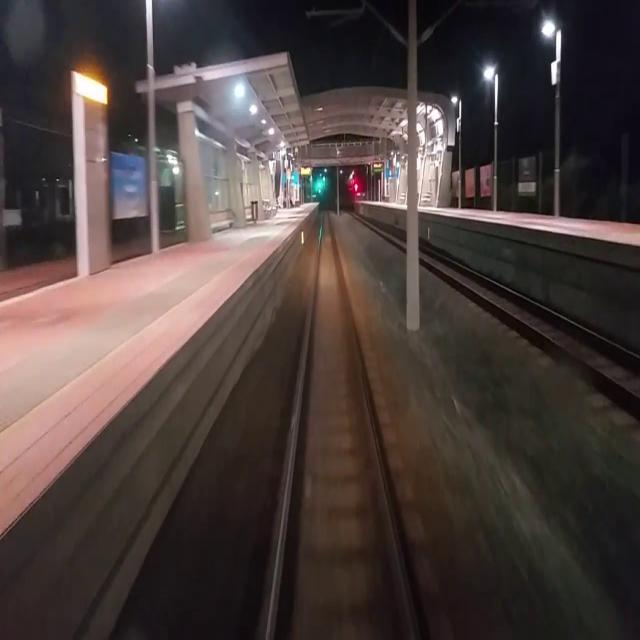rail-track: (278, 209, 403, 575), (418, 244, 640, 395), (347, 209, 406, 247)
